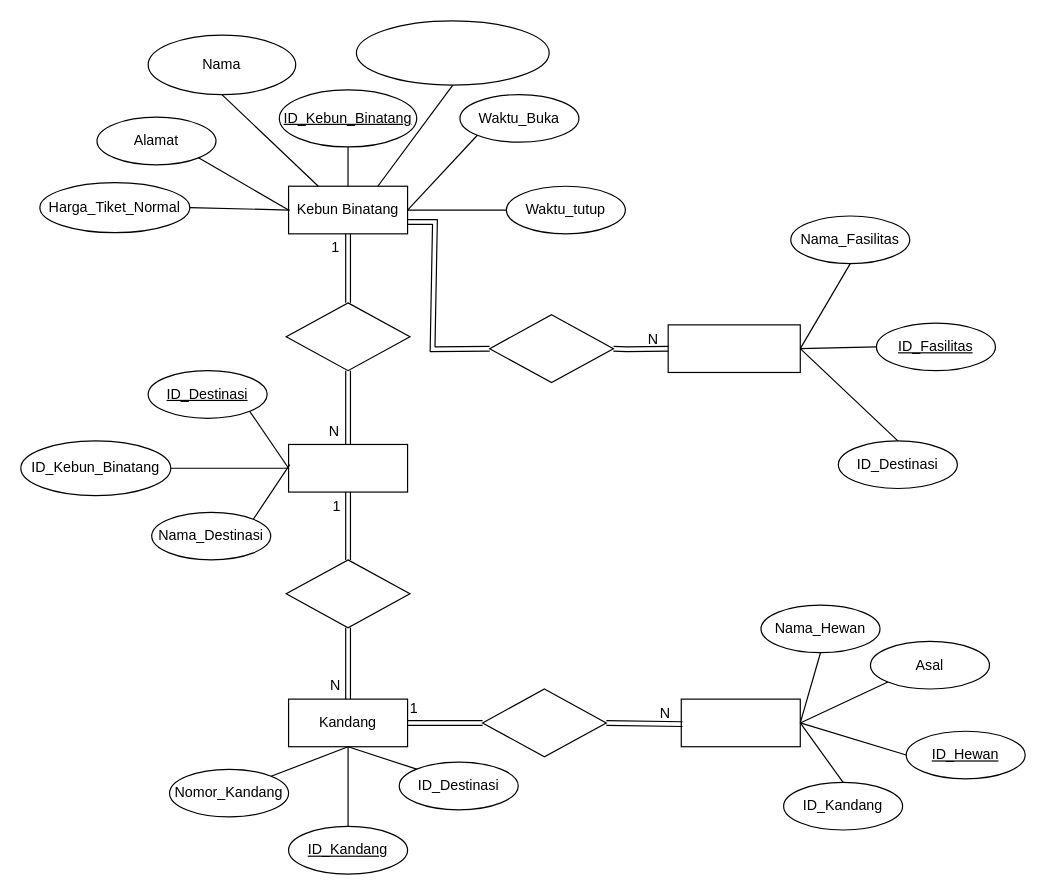
Image size: 1046x895. Some labels were removed from this diagram. The box of each missing label's shape, as (x1, y1, x2, y2) in pixels:
Berisi: (285, 559, 410, 628)
Destinasi: (287, 443, 408, 492)
Ditempati: (481, 688, 606, 757)
Fasilitas_Tambahan: (667, 324, 800, 372)
Harga_Tiket_Weekend_Libur: (355, 20, 549, 85)
Hewan: (680, 698, 800, 747)
Memiliki: (285, 302, 410, 371)
Terdapat: (488, 314, 613, 383)
